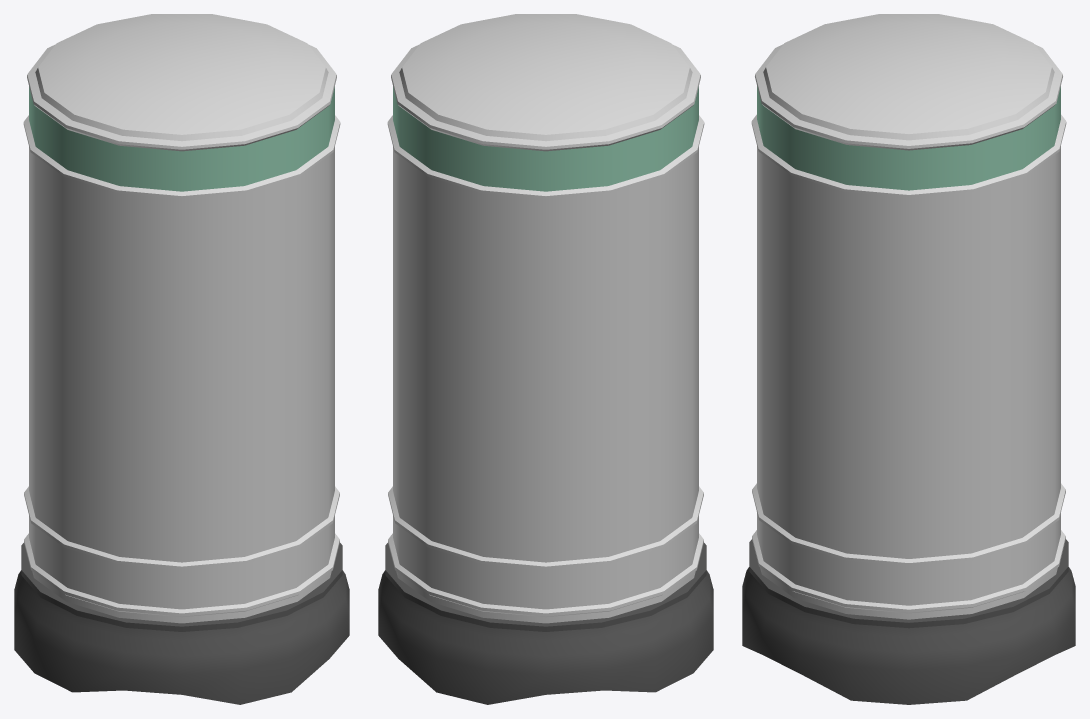
File: JYXTCD001.FBX
The picture shows the model from 3 angles, left to right: view 1: azimuth 30°, elevation 25°; view 2: azimuth 150°, elevation 25°; view 3: azimuth 270°, elevation 25°; orthographic projection.
Visible parts, largest first — view 1: JYXTCD001; view 2: JYXTCD001; view 3: JYXTCD001.
Part boxes in pixels (x1,y1,x2,y2): JYXTCD001: [14, 14, 349, 704]; JYXTCD001: [378, 14, 713, 704]; JYXTCD001: [742, 14, 1075, 704].
Size of the model in its own units: 20.32 by 20.01 by 38.08.
